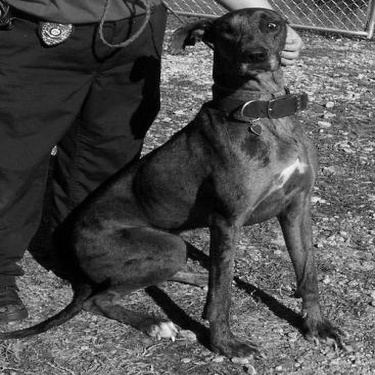dog: (3, 6, 349, 361)
